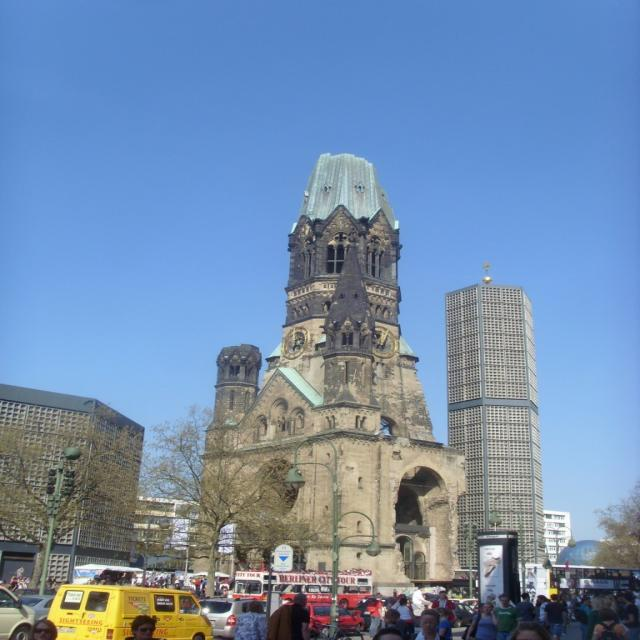body: (266, 591, 312, 640), (490, 594, 523, 640), (231, 600, 269, 639), (460, 602, 500, 639), (587, 597, 620, 639), (408, 608, 450, 640), (242, 566, 372, 576), (124, 613, 168, 640), (591, 609, 630, 639), (394, 597, 418, 640), (470, 602, 497, 640), (543, 594, 565, 640), (364, 593, 385, 638), (383, 608, 412, 640), (430, 589, 458, 622), (620, 592, 639, 640), (508, 620, 550, 640), (573, 596, 592, 640), (555, 592, 570, 636), (28, 618, 58, 640), (516, 591, 536, 621), (569, 588, 620, 598), (556, 568, 604, 578), (87, 570, 119, 584), (411, 584, 432, 605), (537, 594, 550, 627), (384, 593, 408, 610), (564, 596, 575, 628), (219, 584, 233, 609), (453, 586, 479, 598), (548, 578, 578, 588), (142, 571, 158, 588), (525, 566, 537, 586), (631, 586, 639, 613), (172, 582, 182, 602), (239, 585, 261, 594), (212, 574, 222, 592), (485, 593, 497, 608), (119, 571, 130, 587), (192, 577, 202, 594), (42, 577, 52, 594), (435, 606, 449, 618), (9, 577, 19, 592), (49, 578, 58, 594), (16, 576, 24, 594), (135, 570, 143, 588), (337, 598, 349, 610), (347, 588, 371, 594), (177, 573, 186, 588), (534, 600, 540, 621), (187, 575, 195, 590), (24, 576, 31, 593), (130, 572, 138, 586), (15, 566, 24, 578), (158, 576, 166, 589), (221, 576, 234, 584), (402, 586, 411, 596), (201, 578, 208, 590), (282, 596, 292, 604), (132, 580, 142, 588), (475, 604, 482, 614), (392, 588, 398, 598), (60, 580, 72, 584), (619, 588, 631, 592), (374, 589, 382, 594), (400, 588, 405, 594), (9, 576, 14, 582)
